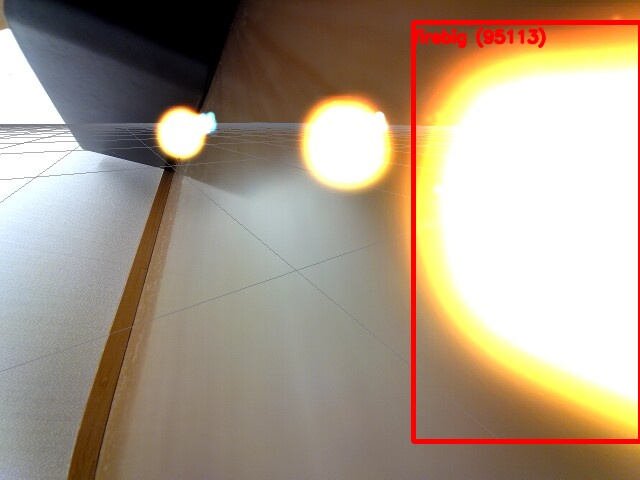firebig: (413, 22, 640, 441)
